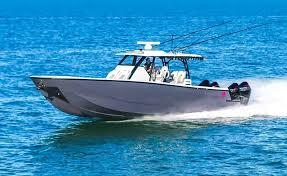fishing boat: (27, 37, 256, 120)
